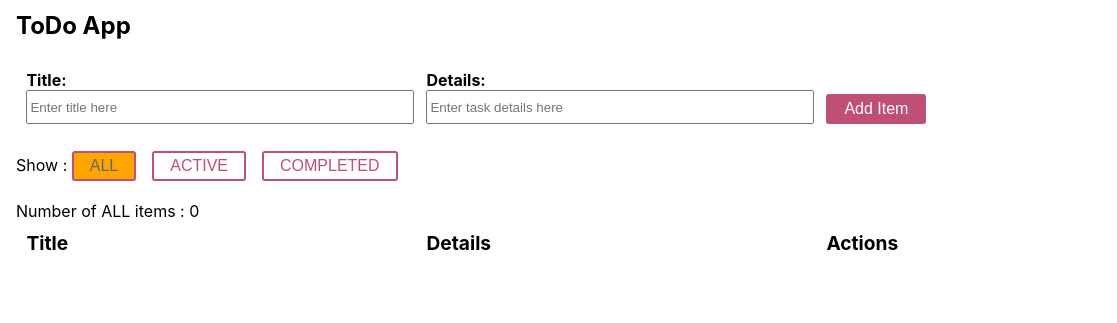
App › render App component with Delete item button click
The width and height of the screenshot is (1117, 323).
In the field with placeholder "Enter title here": (220, 107) [26,90,414,124], type "title"
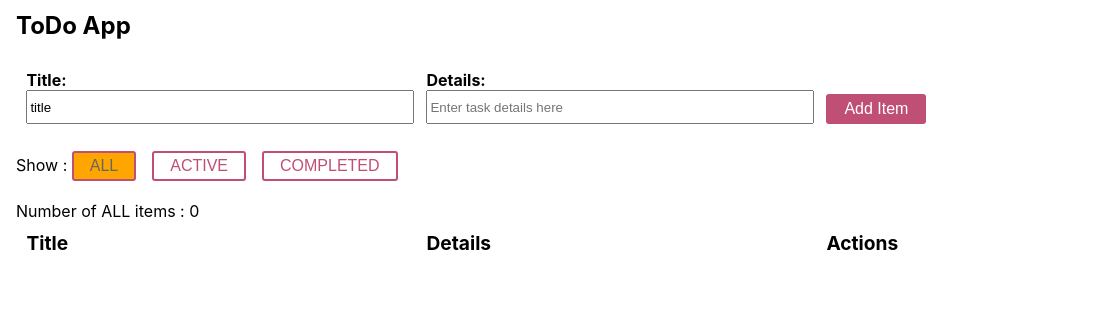
In the field with placeholder "Enter task details here": (620, 107) [426,90,814,124], type "details"
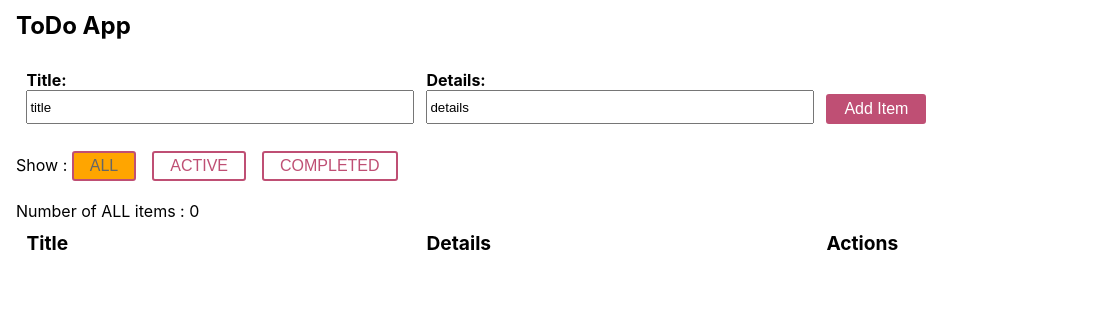
Expected: the text "Number of ALL items : 0" is shown, [16,201,199,221]
Click the button "Add Item": (876, 109) [826,94,926,124]
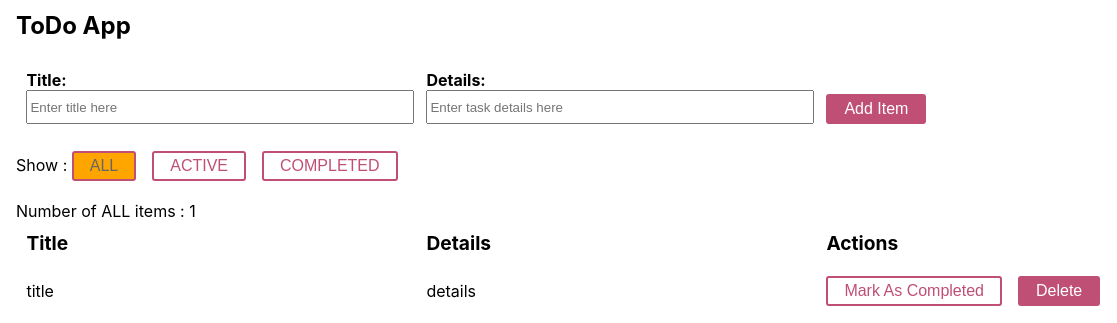
Expected: the text "Number of ALL items : 1" is shown, [16,201,196,221]
Click the button "Delete": (1059, 291) [1018,276,1100,306]
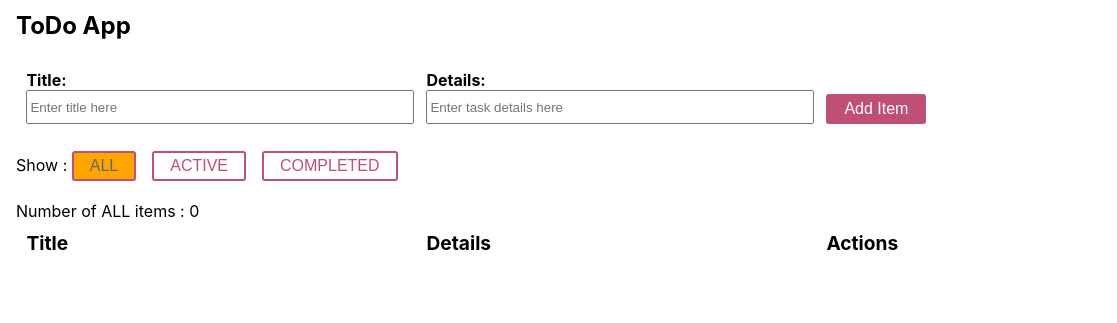
Expected: the text "Number of ALL items : 0" is shown, [16,201,199,221]
